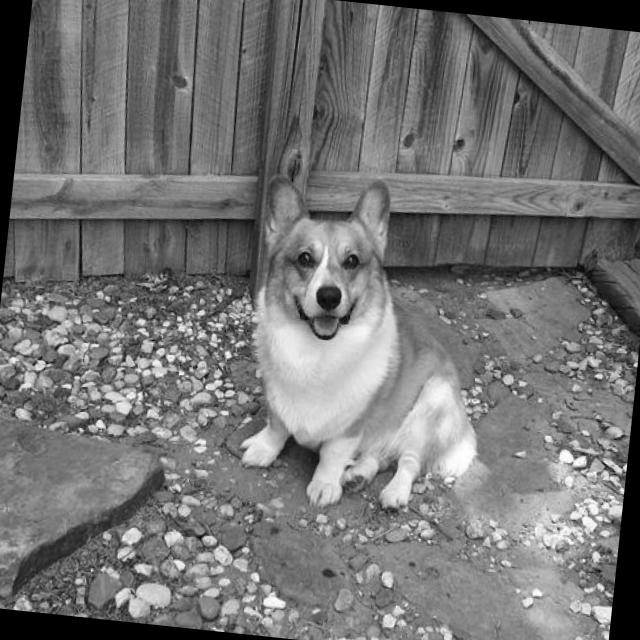sitting: (220, 157, 513, 528)
